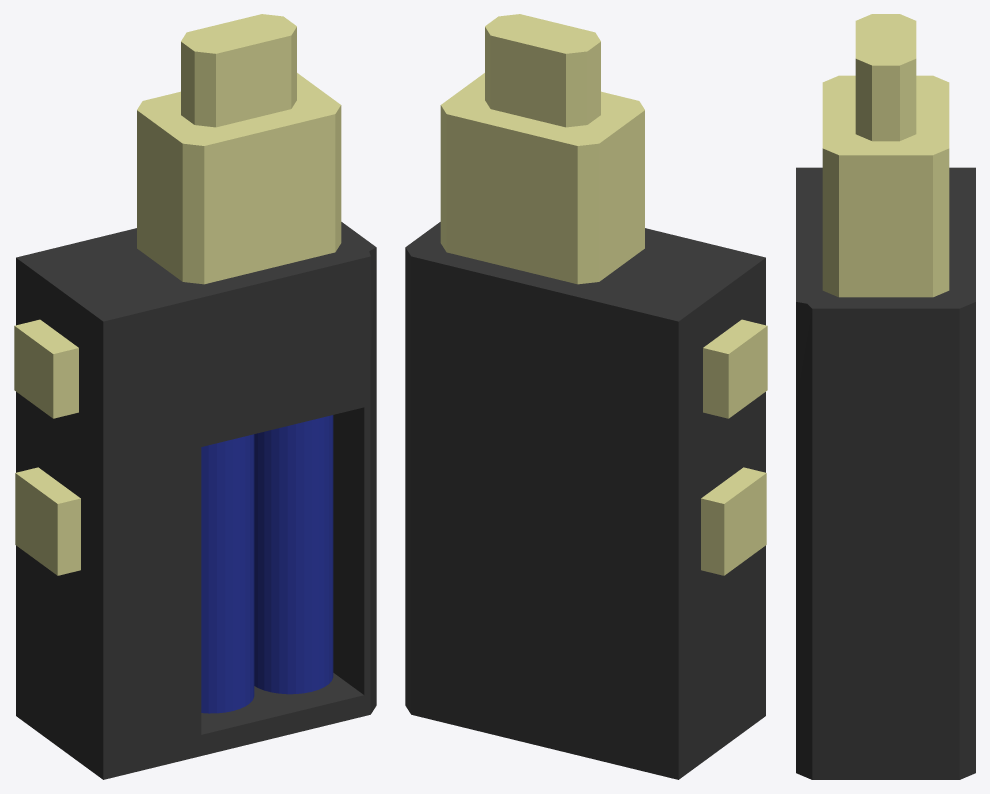
File: VapeGB.glb
3 views of the same model, side by side, from view 1: azimuth 30°, elevation 25°; view 2: azimuth 150°, elevation 25°; view 3: azimuth 270°, elevation 25° (orthographic). The views are drawn at different scales.
Visible parts, largest first — view 1: Cube, Cylinder, Cube.002, Cube.001, Cube.003; view 2: Cube, Cube.002, Cube.001, Cube.003; view 3: Cube, Cube.002, Cube.001.
Part boxes in pixels (x1,y1,x2,y2): Cube: (16,222,376,779); Cylinder: (201,415,333,713); Cube.002: (137,73,341,284); Cube.001: (181,14,296,127); Cube.003: (14,319,80,575); Cube: (405,222,765,779); Cube.002: (440,73,644,284); Cube.001: (485,14,600,127); Cube.003: (701,319,767,575); Cube: (796,167,975,779); Cube.002: (822,75,949,297); Cube.001: (855,14,916,141).
Size of the model in its own units: 1.4 by 2.92 by 0.692.
Materials: 3 (3 with a texture image).
